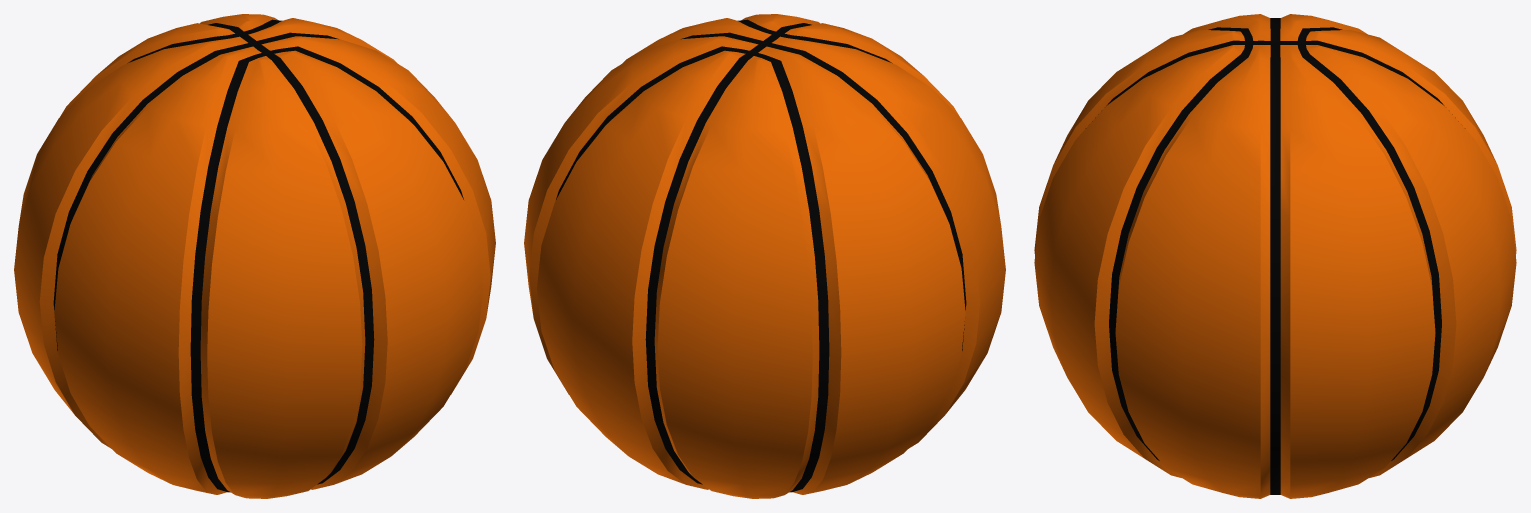
Rendered from Basketball.fbx.
3 views of the same model, side by side, from view 1: azimuth 30°, elevation 25°; view 2: azimuth 150°, elevation 25°; view 3: azimuth 270°, elevation 25° (orthographic).
Visible parts, largest first — view 1: Sphere; view 2: Sphere; view 3: Sphere.
Boxes of the visible parts, x1,y1,x2,y2 form: Sphere: (14,14,495,498); Sphere: (524,14,1005,498); Sphere: (1034,14,1516,498).
Bounding box in the file's own units: 198 × 196 × 198.
